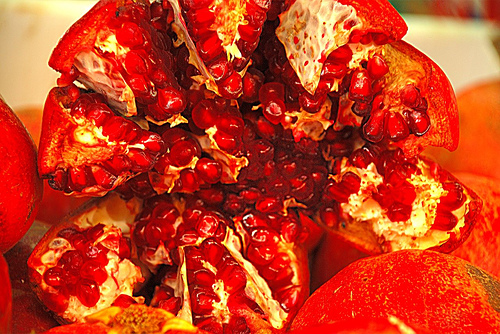pomogranate: (26, 0, 482, 332)
